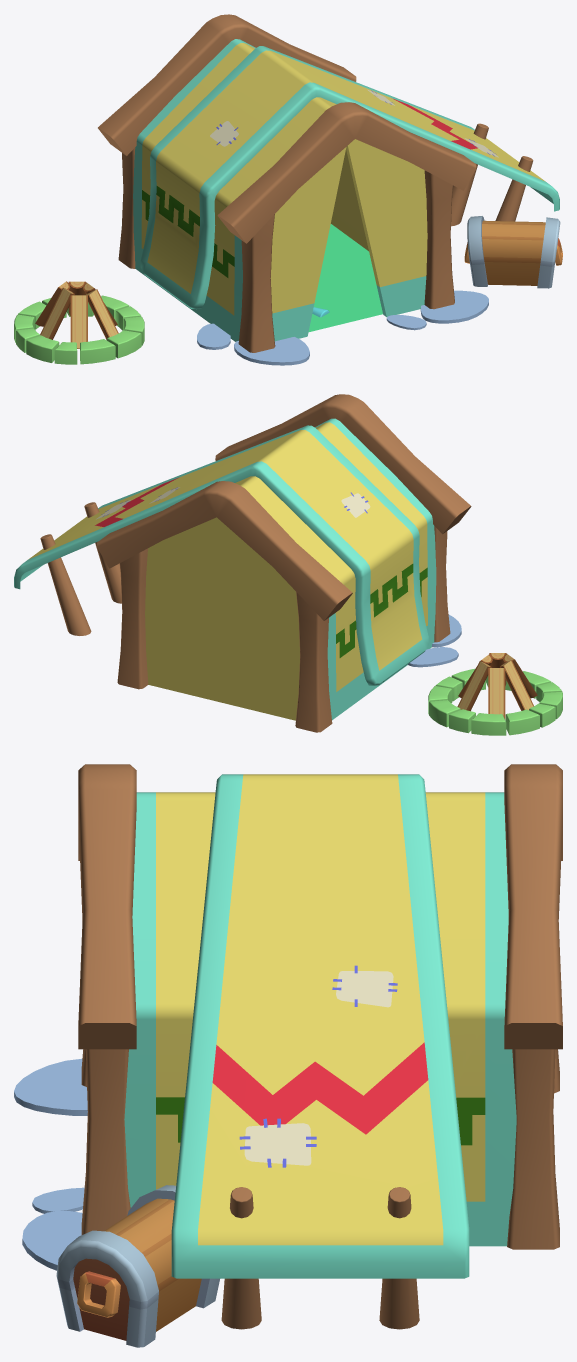
The model's file is Hut lvl 2 up 3.fbx.
3 views of the same model, one above another, from view 1: azimuth 30°, elevation 25°; view 2: azimuth 150°, elevation 25°; view 3: azimuth 270°, elevation 25° (orthographic). The views are drawn at different scales.
Visible parts, largest first — view 1: Plane.014; view 2: Plane.014; view 3: Plane.014.
Boxes of the visible parts, <box> form: Plane.014: <box>14,14,562,365</box>; Plane.014: <box>14,394,562,735</box>; Plane.014: <box>14,764,562,1347</box>.
Bounding box in the file's own units: 1187 × 497 × 634.
